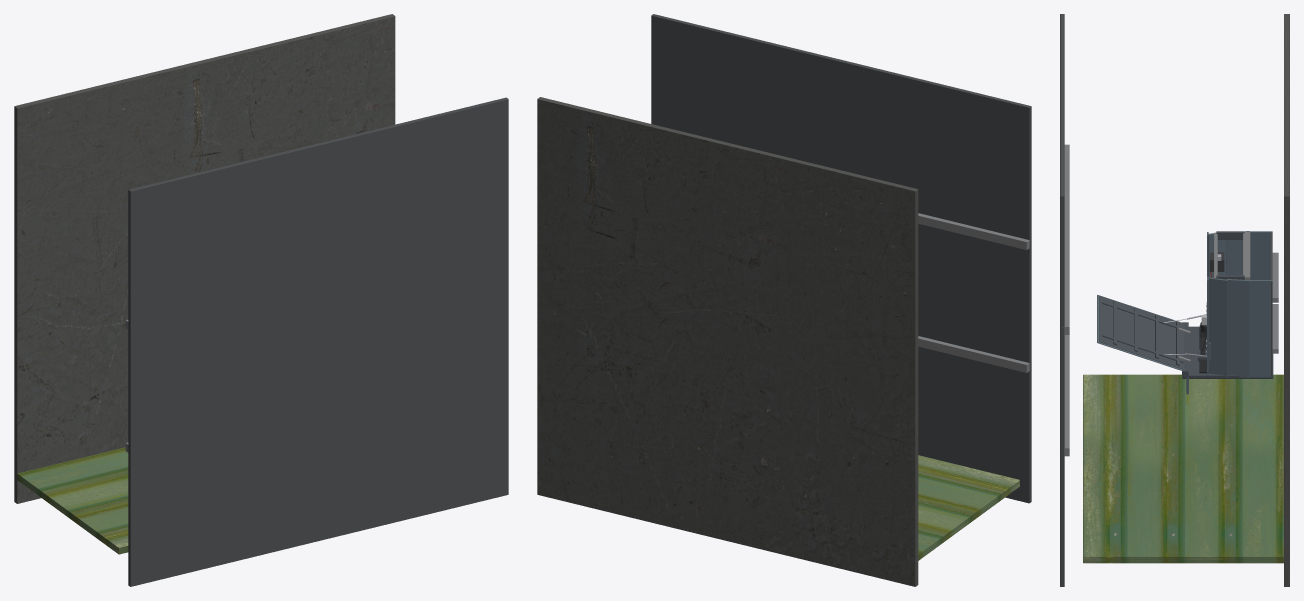
Rendered from engine_bay_shell.glb.
The picture shows the model from 3 angles, left to right: view 1: azimuth 30°, elevation 25°; view 2: azimuth 150°, elevation 25°; view 3: azimuth 270°, elevation 25°; orthographic projection.
Visible parts, largest first — view 1: SH_garage_ceiling, SH_garage_floor, BLK_SH_garage_wall; view 2: SH_garage_floor, SH_garage_ceiling, BLK_SH_garage_wall, SH_garage_ceilingbeam2, SH_garage_ceilingbeam1; view 3: BLK_SH_garage_wall, SH_garage_floor, BLK_SH_hood_inner, SH_garage_ceiling, BLK_SH_fender1_s1, BLK_SH_fender1_s2, BLK_SH_fender1_s3, SH_garage_ceilingbeam2, BLK_SH_fender-1_s1, BLK_SH_firewall, SH_garage_ceilingbeam1, BLK_SH_fender-1_s2 (+5 smaller).
Boxes of the visible parts, left/top/right/bottom form: SH_garage_ceiling: left=128, top=97, right=508, bottom=586; SH_garage_floor: left=14, top=14, right=395, bottom=503; BLK_SH_garage_wall: left=17, top=447, right=128, bottom=554; SH_garage_floor: left=537, top=97, right=918, bottom=586; SH_garage_ceiling: left=651, top=14, right=1031, bottom=503; BLK_SH_garage_wall: left=918, top=455, right=1019, bottom=560; SH_garage_ceilingbeam2: left=918, top=213, right=1029, bottom=249; SH_garage_ceilingbeam1: left=918, top=336, right=1029, bottom=372; BLK_SH_garage_wall: left=1083, top=374, right=1283, bottom=563; SH_garage_floor: left=1284, top=14, right=1289, bottom=586; BLK_SH_hood_inner: left=1099, top=296, right=1184, bottom=369; SH_garage_ceiling: left=1060, top=14, right=1064, bottom=586; BLK_SH_fender1_s1: left=1248, top=280, right=1272, bottom=377; BLK_SH_fender1_s2: left=1227, top=279, right=1249, bottom=377; BLK_SH_fender1_s3: left=1208, top=277, right=1227, bottom=377; SH_garage_ceilingbeam2: left=1062, top=144, right=1069, bottom=334; BLK_SH_fender-1_s1: left=1249, top=231, right=1272, bottom=279; BLK_SH_firewall: left=1182, top=326, right=1273, bottom=378; SH_garage_ceilingbeam1: left=1062, top=335, right=1069, bottom=456; BLK_SH_fender-1_s2: left=1226, top=231, right=1249, bottom=275.
Size of the model in its own units: 5.8 by 5.8 by 3.09.
16 materials, 2 textured.
